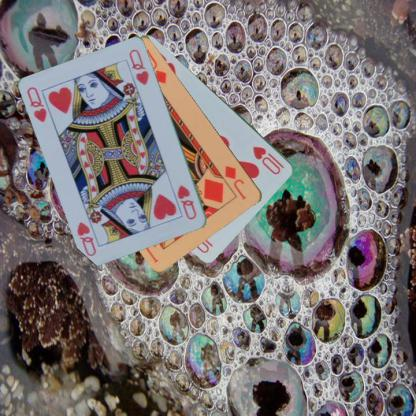10h: (250, 144, 286, 176)
Jd: (222, 163, 248, 201)
Qh: (24, 84, 49, 124), (175, 182, 198, 221)
